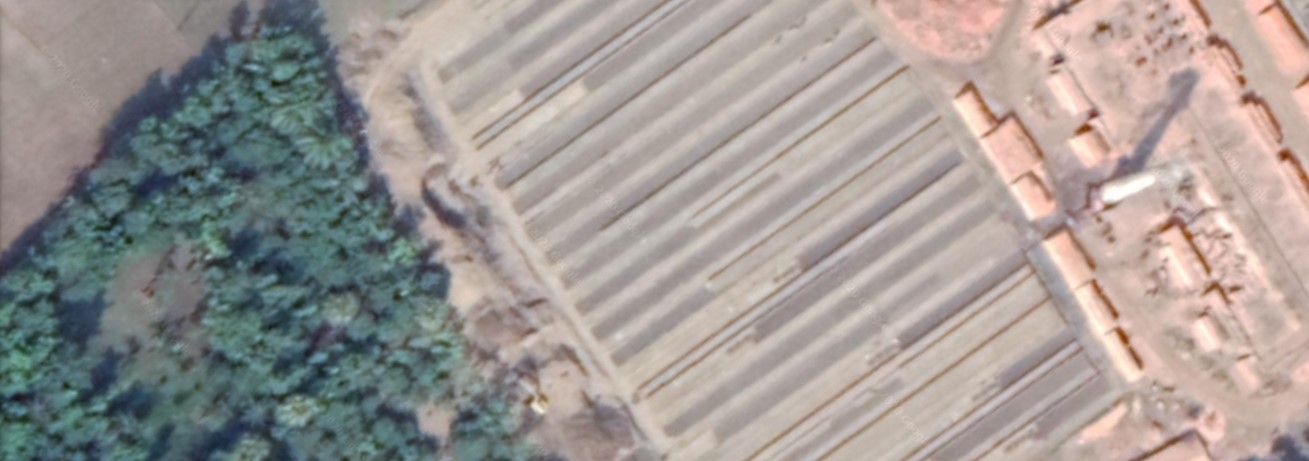kiln: (955, 5, 1309, 407)
